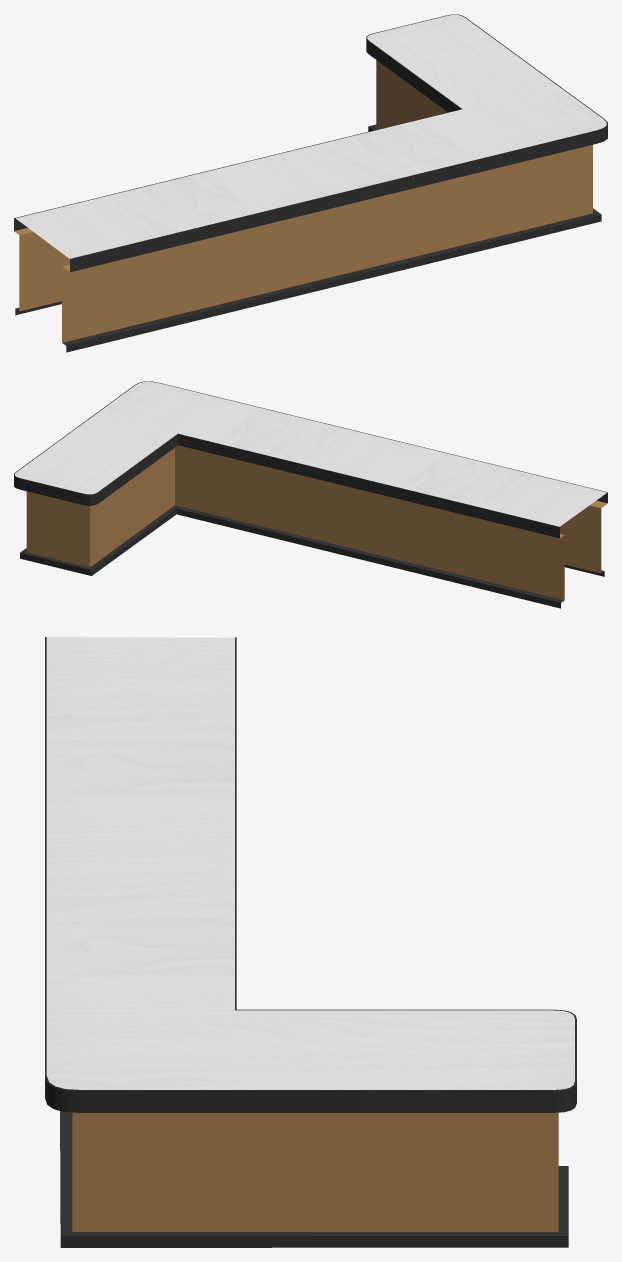
Rendered from Meson-3.FBX.
3 renders of one model, top to bottom at view 1: azimuth 30°, elevation 25°; view 2: azimuth 150°, elevation 25°; view 3: azimuth 270°, elevation 25°, orthographic. The views are drawn at different scales.
Visible parts, largest first — view 1: Box007; view 2: Box007; view 3: Box007.
Part boxes in pixels (<box>): Box007: <box>14,14,607,352</box>; Box007: <box>14,381,607,608</box>; Box007: <box>45,637,576,1247</box>.
Bounding box in the file's own units: 592 × 293 × 100.
